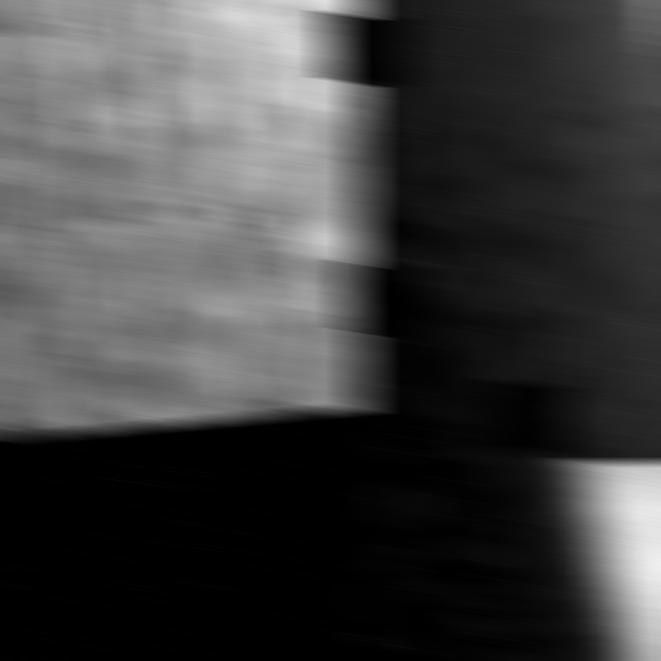Airbag: (0, 0, 372, 463), (354, 0, 661, 463), (354, 461, 661, 661)
